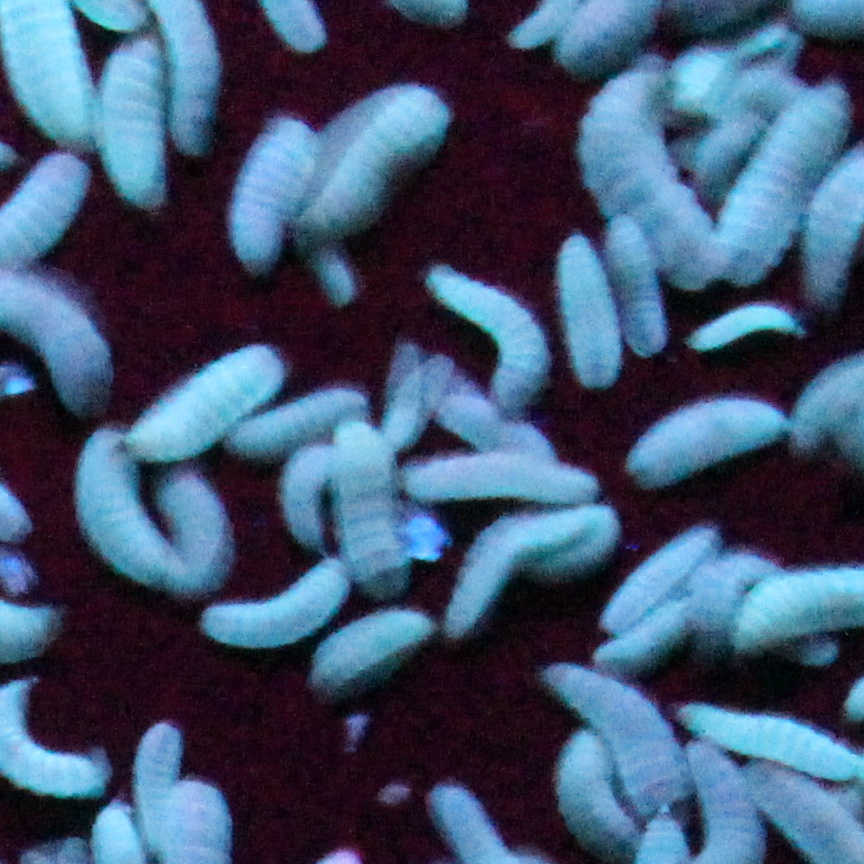larve: (580, 58, 723, 272), (723, 83, 860, 281), (310, 81, 466, 222), (544, 660, 682, 813), (453, 501, 603, 633), (128, 345, 287, 465), (85, 433, 194, 601), (437, 270, 560, 415), (337, 417, 412, 608), (632, 399, 789, 490), (546, 226, 625, 395), (100, 31, 175, 208), (232, 110, 314, 270), (598, 533, 716, 631), (560, 722, 641, 863), (207, 567, 344, 647), (400, 447, 607, 499), (316, 604, 425, 699), (689, 540, 785, 629), (430, 390, 557, 456), (607, 224, 673, 351), (232, 395, 362, 458), (155, 472, 230, 576), (603, 597, 698, 667), (135, 715, 189, 835), (689, 306, 805, 358), (280, 442, 332, 549)
